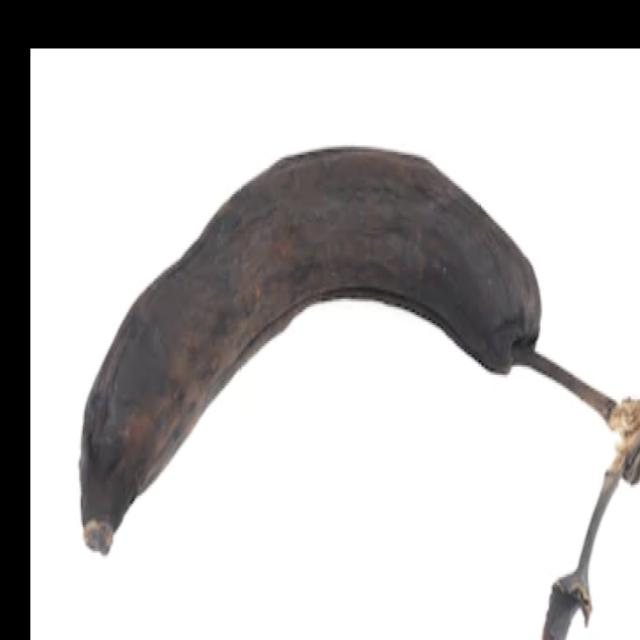Rotten: (61, 134, 640, 640)
